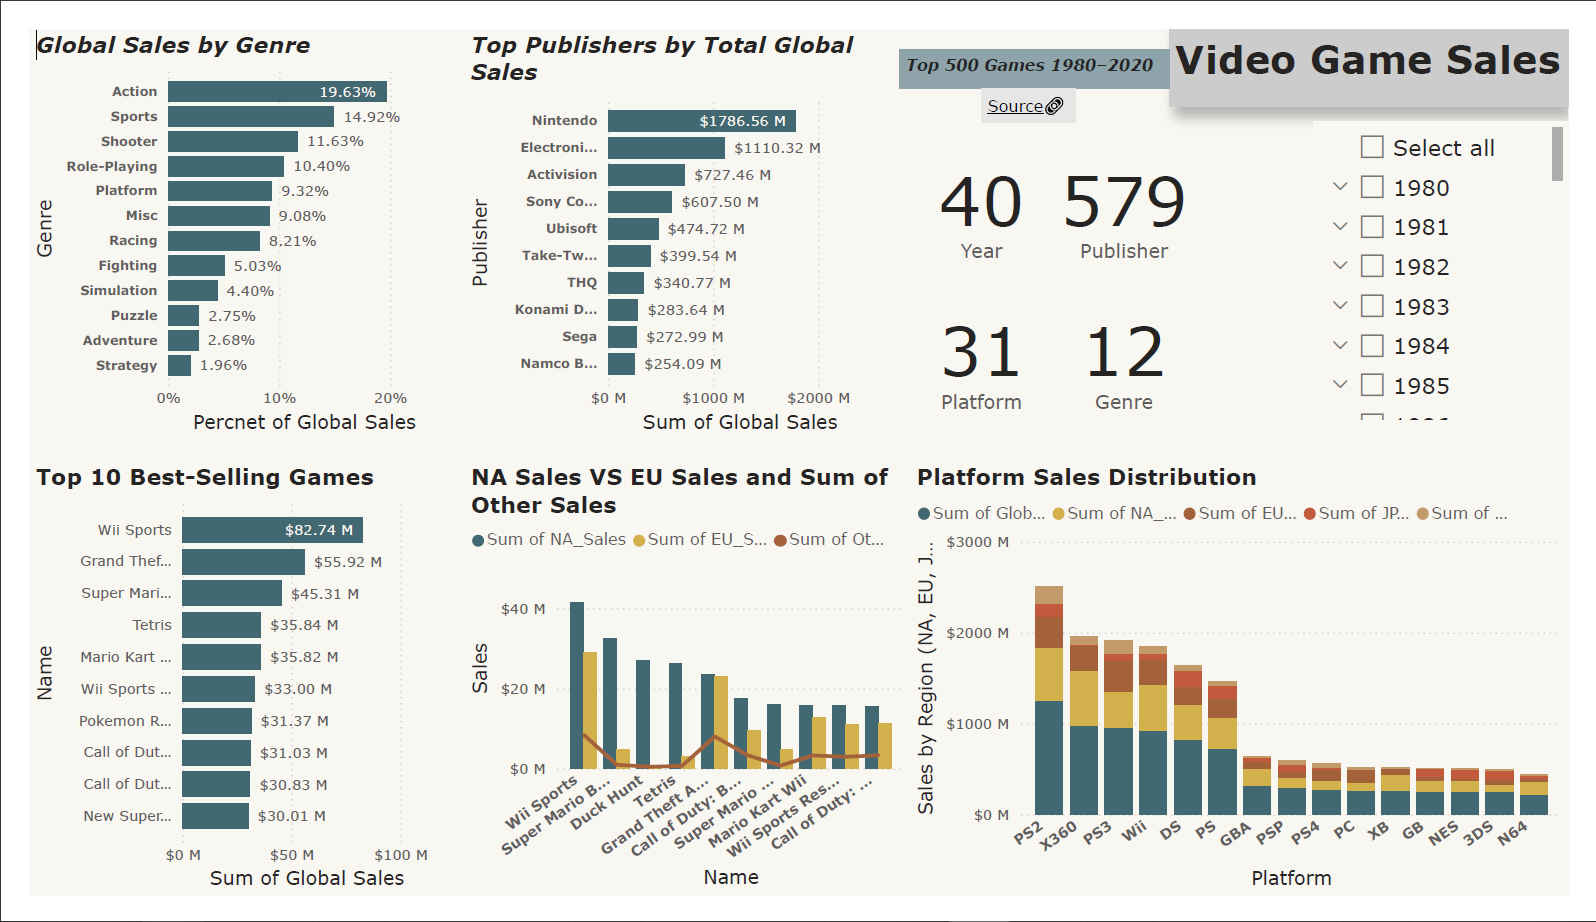

What the dashboard file says about the page in this screenshot:
{"tool":"powerbi","page":{"name":"Page 1","canvas":[1280,720],"ordinal":0},"visuals":[{"type":"barChart","title":"Global Sales by Genre","fields":{"Y":["Sum(vgsales.Global_Sales)"],"Category":["vgsales.Genre","vgsales.Name"]},"box":[0,0,361.6,339.5],"z":0},{"type":"clusteredBarChart","title":"Top Publishers by Total Global Sales","fields":{"Category":["vgsales.Publisher","vgsales.Name"],"Y":["Sum(vgsales.Global_Sales)"]},"box":[361.6,0,370.9,339.5],"z":1000},{"type":"columnChart","title":"Platform Sales Distribution","fields":{"Category":["vgsales.Platform"],"Y":["Sum(vgsales.Global_Sales)","Sum(vgsales.NA_Sales)","Sum(vgsales.EU_Sales)","Sum(vgsales.JP_Sales)","Sum(vgsales.Other_Sales)"]},"box":[732.5,360,547.5,360],"z":2000},{"type":"textbox","box":[947.5,0,333,64],"z":3000},{"type":"barChart","title":"Top 10 Best-Selling Games","fields":{"Category":["vgsales.Name","vgsales.Platform"],"Y":["Sum(vgsales.Global_Sales)"]},"box":[0,360.5,361.6,359.3],"z":4000},{"type":"slicer","fields":{"Values":["vgsales.Year","vgsales.Genre","vgsales.Publisher","vgsales.Platform"]},"box":[1067.5,76.2,212.5,252.5],"z":5000},{"type":"textbox","box":[723.8,16.2,223.8,32.5],"z":6000},{"type":"lineClusteredColumnComboChart","title":"NA Sales VS EU Sales and Sum of Other Sales","fields":{"Y":["Sum(vgsales.NA_Sales)","Sum(vgsales.EU_Sales)"],"Category":["vgsales.Name"],"Y2":["Sum(vgsales.Other_Sales)"]},"box":[362,360,371,359],"z":7000},{"type":"card","fields":{"Values":["Count(vgsales.Year)"]},"box":[732.5,87.5,118.8,121.2],"z":8000},{"type":"card","fields":{"Values":["Count(vgsales.Platform)"]},"box":[732.5,208.8,118.8,128.8],"z":9000},{"type":"card","fields":{"Values":["Count(vgsales.Publisher)"]},"box":[851.2,87.5,118.8,121.2],"z":10000},{"type":"card","fields":{"Values":["Count(vgsales.Genre)"]},"box":[851.2,208.8,118.8,128.8],"z":11000},{"type":"textbox","box":[791.9,48.8,77.9,27.9],"z":11001}]}

Visuals, with their boxes in screenshot pixels (x1, y1, x2, y2), scaled from the page's 1280x720 canvas onto the 1596x922 screenshot:
"Global Sales by Genre" barChart: bbox(0, 0, 451, 435)
"Top Publishers by Total Global Sales" clusteredBarChart: bbox(451, 0, 913, 435)
"Platform Sales Distribution" columnChart: bbox(913, 461, 1595, 921)
textbox: bbox(1181, 0, 1595, 82)
"Top 10 Best-Selling Games" barChart: bbox(0, 462, 451, 921)
slicer - vgsales.Year x vgsales.Genre: bbox(1331, 98, 1595, 421)
textbox: bbox(902, 21, 1182, 62)
"NA Sales VS EU Sales and Sum of Other Sales" lineClusteredColumnComboChart: bbox(451, 461, 914, 921)
card - Count(vgsales.Year): bbox(913, 112, 1061, 267)
card - Count(vgsales.Platform): bbox(913, 267, 1061, 432)
card - Count(vgsales.Publisher): bbox(1061, 112, 1209, 267)
card - Count(vgsales.Genre): bbox(1061, 267, 1209, 432)
textbox: bbox(987, 62, 1085, 98)
